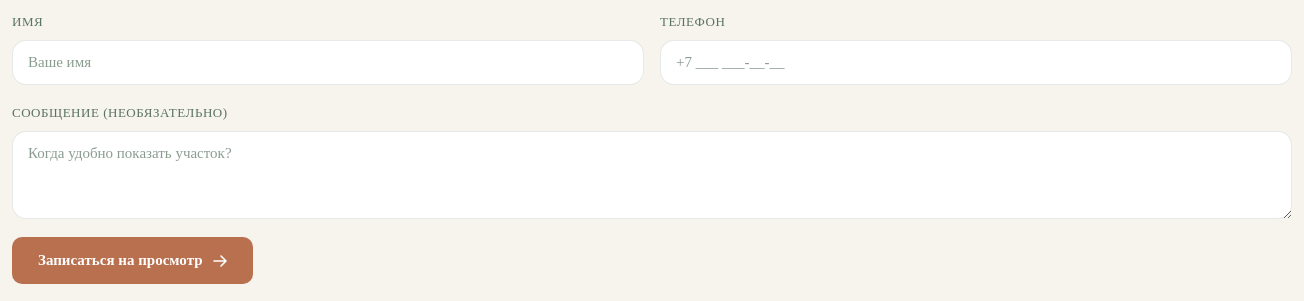
it: LeadForm › shows error message when submitLead throws
Type "Иван Петров" into the field labelled "Имя".
click(328, 63); type("Иван Петров")  # box [12,40,644,85]
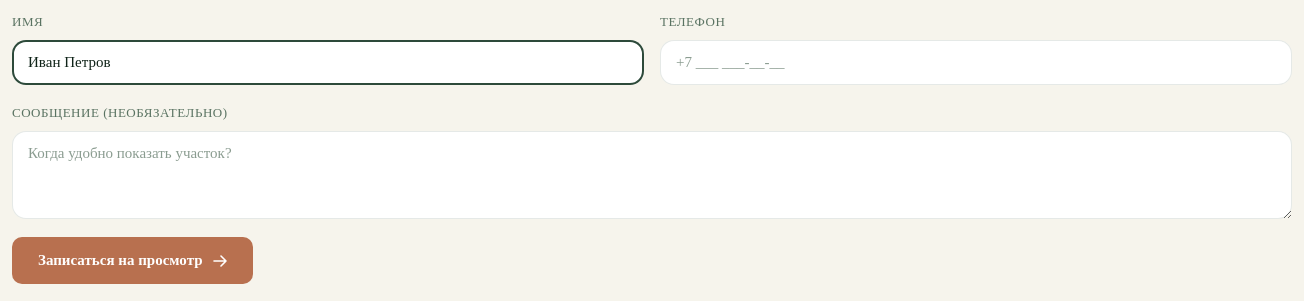
Type "+7 861 000 00 00" into the field labelled "Телефон".
click(976, 63); type("+7 861 000 00 00")  # box [660,40,1292,85]
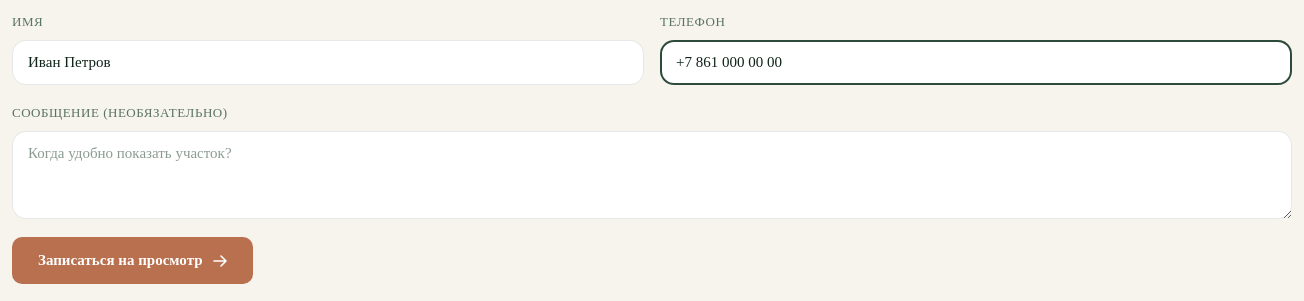
Click the button "Записаться на просмотр".
click(132, 261)  # box [12,237,252,284]
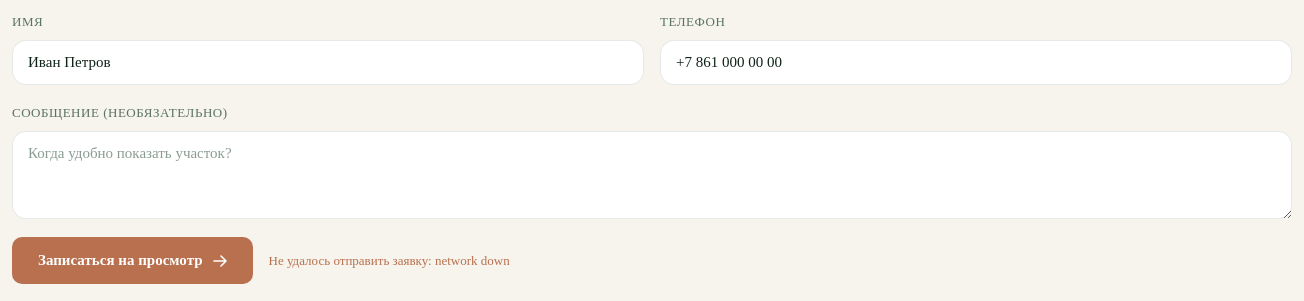
Result: the text "Не удалось отправить заявку: network down" is shown at [268,251,510,271]
